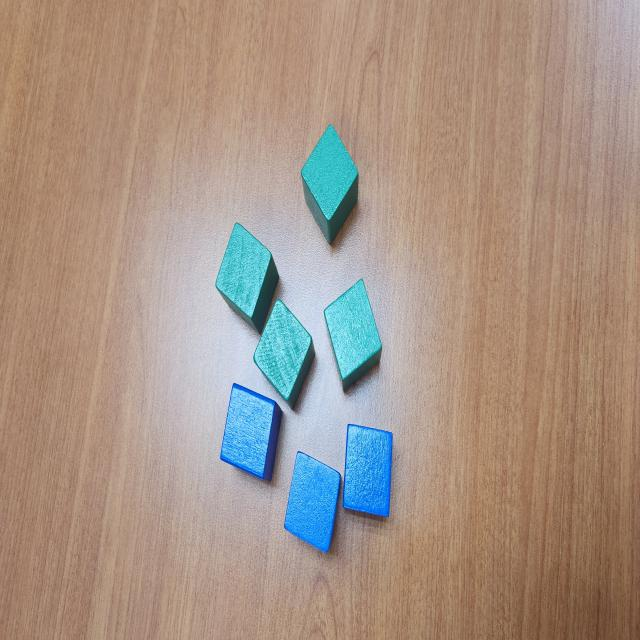blue: (220, 384, 284, 483), (284, 450, 342, 552), (342, 424, 393, 518)
green: (300, 123, 360, 245), (216, 223, 280, 337), (253, 297, 315, 411), (324, 280, 384, 393)
